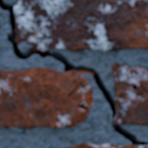brick: (15, 0, 147, 50), (0, 68, 92, 127), (112, 64, 147, 124), (71, 144, 147, 147), (86, 101, 92, 107)
crack: (0, 0, 147, 146), (67, 83, 88, 96), (129, 79, 147, 93), (77, 96, 92, 110)
